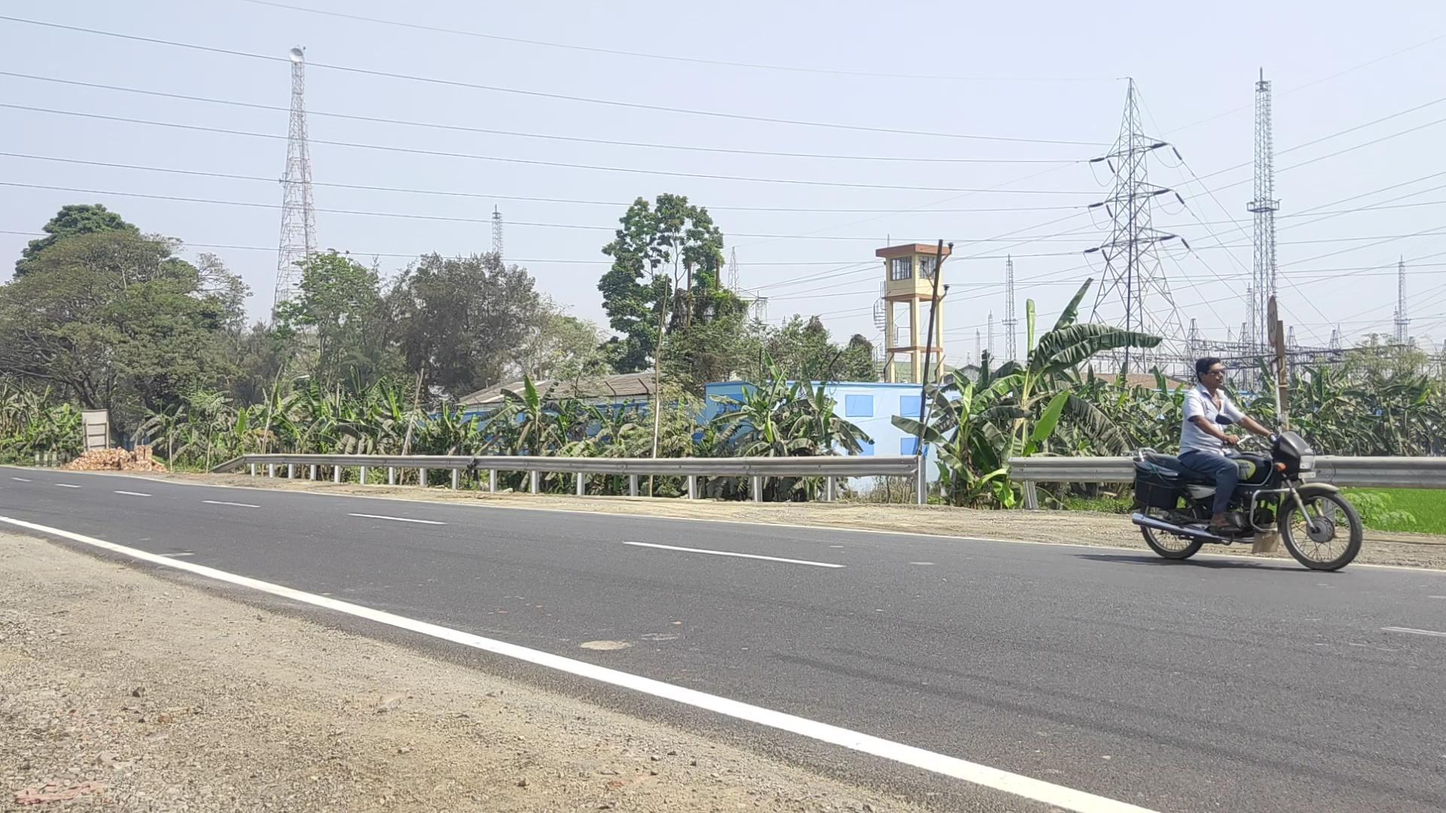bike: (1128, 358, 1363, 571)
